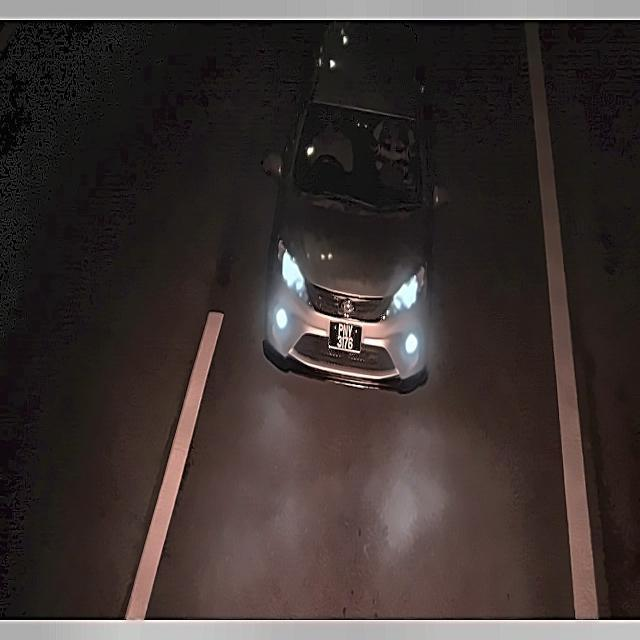car: (324, 317, 365, 357)
